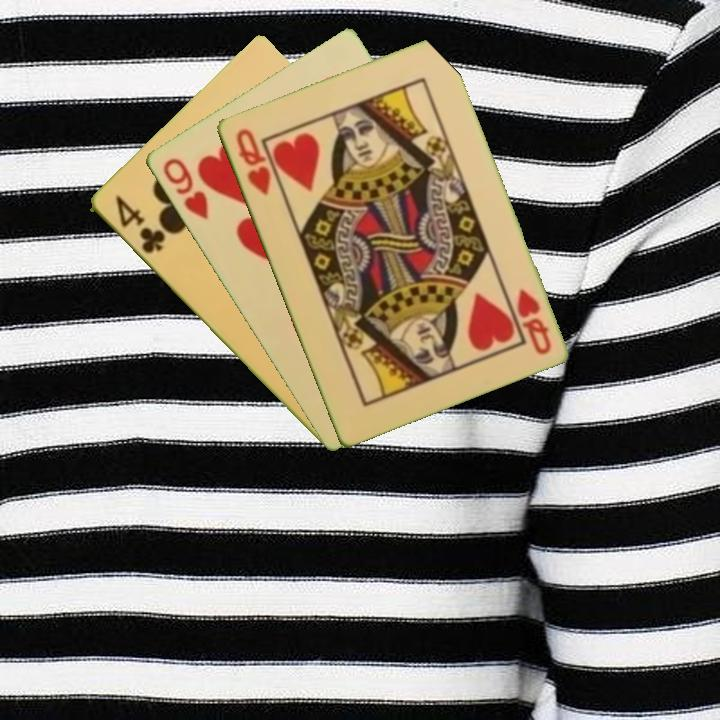4c: (111, 191, 168, 257)
9h: (158, 154, 211, 222)
Qh: (232, 124, 274, 198), (512, 285, 554, 358)
